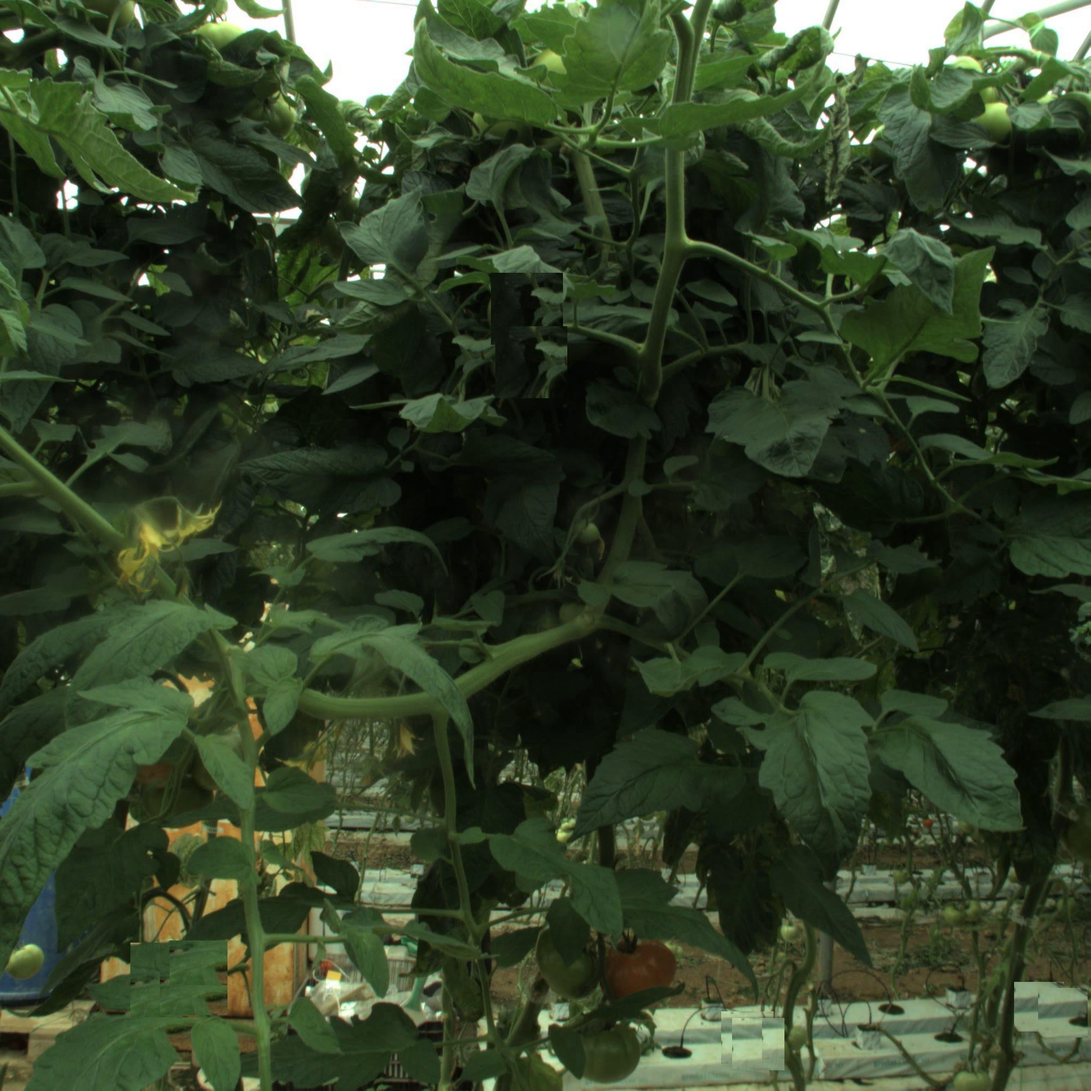['unripe', 'semi-ripe', 'fully-ripe']: (537, 924, 611, 998), (576, 1017, 642, 1083), (3, 943, 44, 984)
